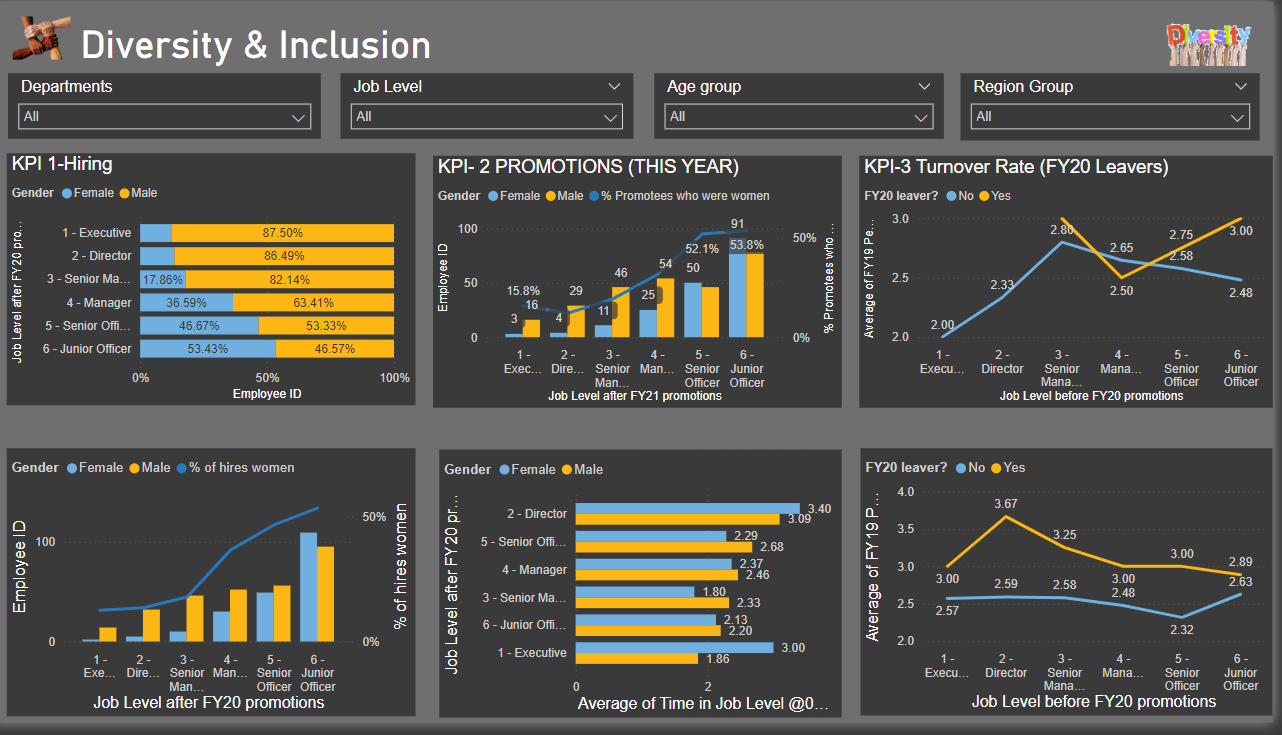

Layout of this report page (visuals, bound fields, positions):
{"tool":"powerbi","page":{"name":"HR MANAGER 1","canvas":[1280,720],"ordinal":0},"visuals":[{"type":"hundredPercentStackedBarChart","title":"KPI 1-Hiring","fields":{"Category":["HR Manager.Job Level after FY20 promotions"],"Y":["CountNonNull(HR Manager.Employee ID)"],"Series":["HR Manager.Gender"]},"box":[13.7,151.6,408.4,252],"z":0},{"type":"lineClusteredColumnComboChart","title":"KPI- 2 PROMOTIONS (THIS YEAR)","fields":{"Category":["HR Manager.Job Level after FY21 promotions"],"Y":["CountNonNull(HR Manager.Employee ID)"],"Y2":["HR Manager.% Promotees who were women"],"Series":["HR Manager.Gender"]},"box":[440.4,153.6,408.5,252.2],"z":1000},{"type":"textbox","box":[82.2,15.1,516.8,69.9],"z":1011},{"type":"lineChart","title":"KPI-3 Turnover Rate (FY20 Leavers)","fields":{"Category":["HR Manager.Job Level before FY20 promotions"],"Y":["Avg(HR Manager.FY19 Performance Rating)"],"Series":["HR Manager.FY20 leaver?"]},"box":[866.6,153.3,413.8,252.2],"z":2000},{"type":"lineClusteredColumnComboChart","fields":{"Category":["HR Manager.Job Level after FY20 promotions"],"Y":["CountNonNull(HR Manager.Employee ID)"],"Y2":["HR Manager.% of hires women"],"Series":["HR Manager.Gender"]},"box":[13.7,445.9,408.4,267.8],"z":3000},{"type":"clusteredBarChart","fields":{"Category":["HR Manager.Job Level after FY20 promotions"],"Y":["Avg(HR Manager.Time in Job Level @01.07.2020)"],"Series":["HR Manager.Gender"]},"box":[446,446.9,402,267.7],"z":4000},{"type":"lineChart","fields":{"Category":["HR Manager.Job Level before FY20 promotions"],"Y":["Avg(HR Manager.FY19 Performance Rating)"],"Series":["HR Manager.FY20 leaver?"]},"box":[867.7,446.6,411.8,267.4],"z":5000},{"type":"slicer","fields":{"Values":["HR Manager.Job Level before FY20 promotions"]},"box":[15.1,71.3,312.9,65.6],"z":6000,"group":"g1"},{"type":"slicer","fields":{"Values":["HR Manager.Last Department in FY20"]},"box":[348.2,71.3,292.7,65.6],"z":7000,"group":"g1"},{"type":"slicer","fields":{"Values":["HR Manager.Age group"]},"box":[661,71.3,289.3,65.6],"z":8000,"group":"g1"},{"type":"slicer","fields":{"Values":["HR Manager.Broad region group: nationality 1","HR Manager.Age group"]},"box":[967.2,71.3,299.4,67.4],"z":9000,"group":"g1"},{"type":"group","id":"g1","title":"Group 1","box":[15.1,71.3,1251.5,67.2],"z":9001},{"type":"image","box":[1165.1,0,101.4,71.3],"z":9002},{"type":"image","box":[15.1,0,67.2,71.3],"z":9003}]}

Visuals, with their boxes in screenshot pixels (x1, y1, x2, y2), scaled from the page's 1280x720 canvas onto the 1282x735 screenshot:
"KPI 1-Hiring" hundredPercentStackedBarChart: 14:155:423:412
"KPI- 2 PROMOTIONS (THIS YEAR)" lineClusteredColumnComboChart: 441:157:850:414
textbox: 82:15:600:87
"KPI-3 Turnover Rate (FY20 Leavers)" lineChart: 868:156:1281:414
lineClusteredColumnComboChart - HR Manager.Job Level after FY20 promotions x CountNonNull(HR Manager.Employee ID): 14:455:423:729
clusteredBarChart - HR Manager.Job Level after FY20 promotions x Avg(HR Manager.Time in Job Level @01.07.2020): 447:456:849:729
lineChart - HR Manager.Job Level before FY20 promotions x Avg(HR Manager.FY19 Performance Rating): 869:456:1281:729
slicer - HR Manager.Job Level before FY20 promotions: 15:73:329:140
slicer - HR Manager.Last Department in FY20: 349:73:642:140
slicer - HR Manager.Age group: 662:73:952:140
slicer - HR Manager.Broad region group: nationality 1 x HR Manager.Age group: 969:73:1269:142
"Group 1" group: 15:73:1269:141
image: 1167:0:1268:73
image: 15:0:82:73
